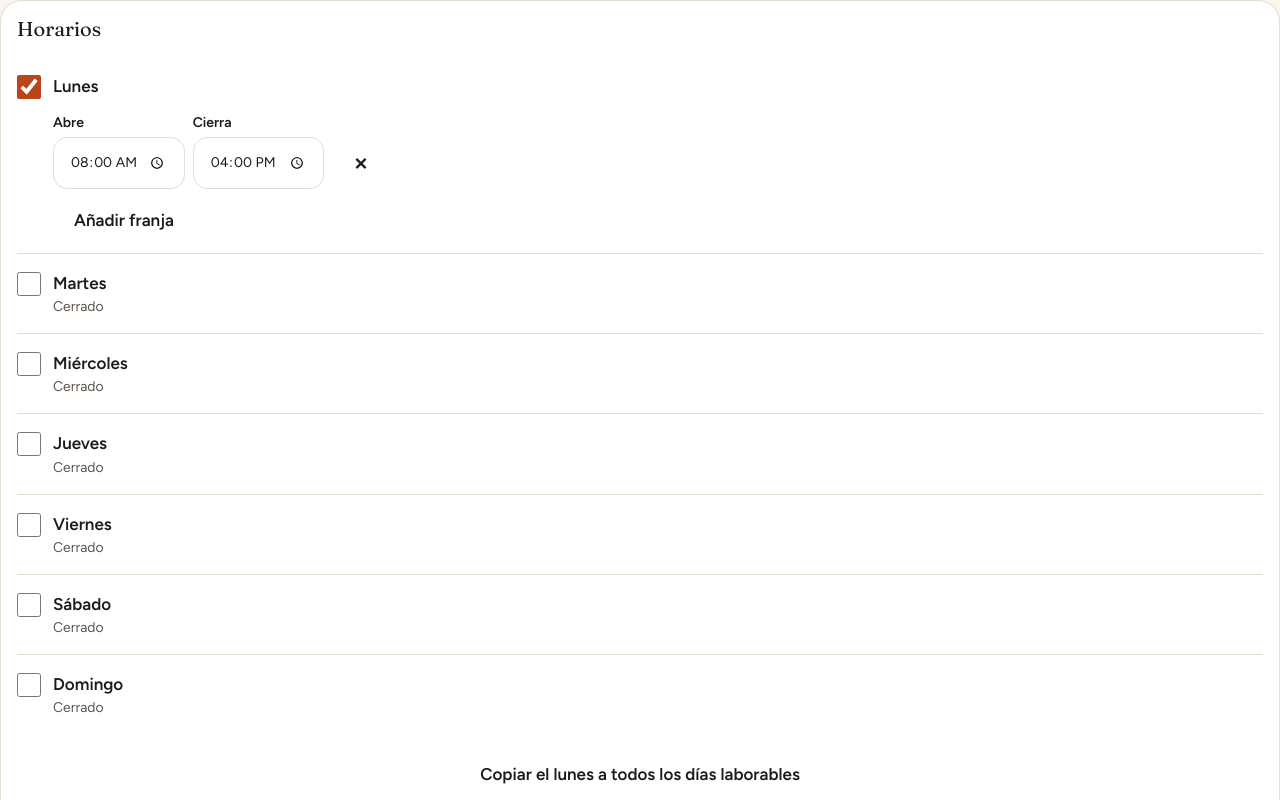
Scenario: EditorHorarios › añadir franjas hasta un máximo de 3
Click the button named "Añadir franja Lunes" at (124, 221), box x1=53 y1=197 x2=195 y2=245
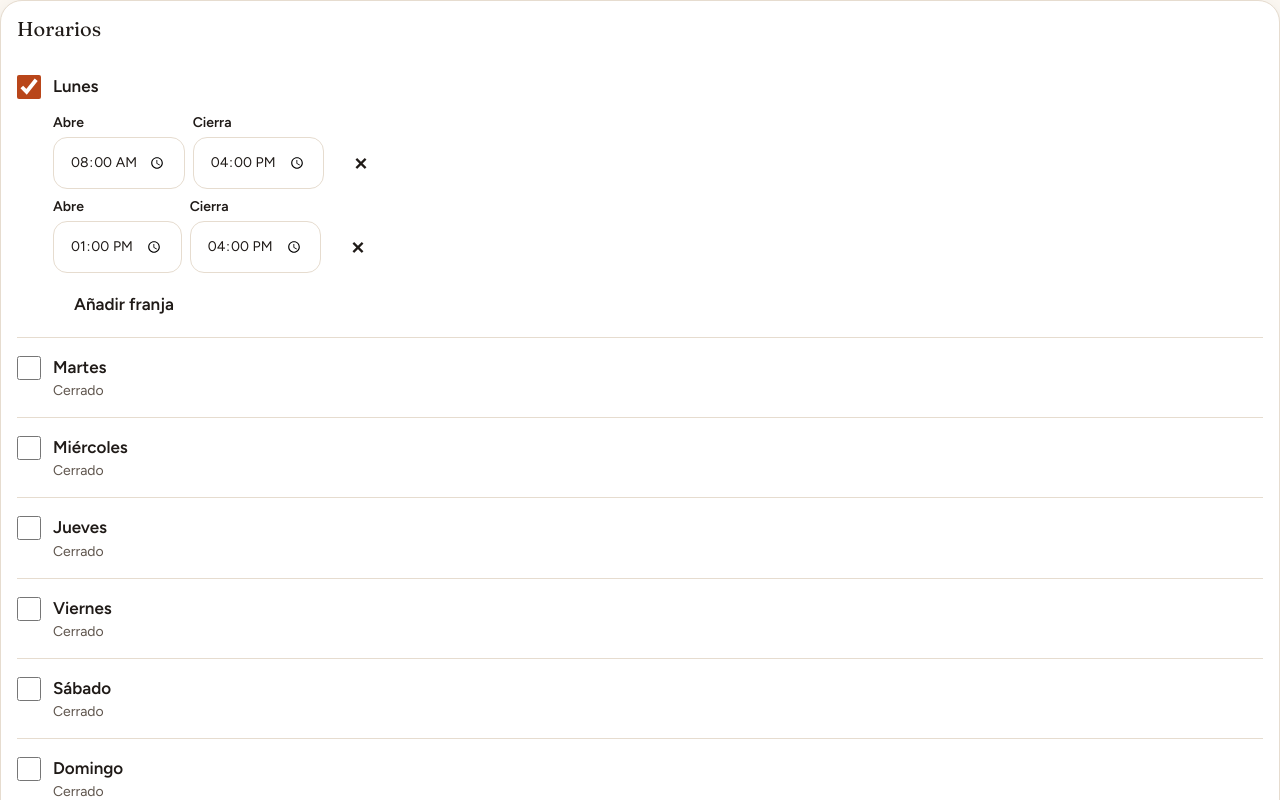
Click the button named "Añadir franja Lunes" at (124, 305), box x1=53 y1=281 x2=195 y2=329
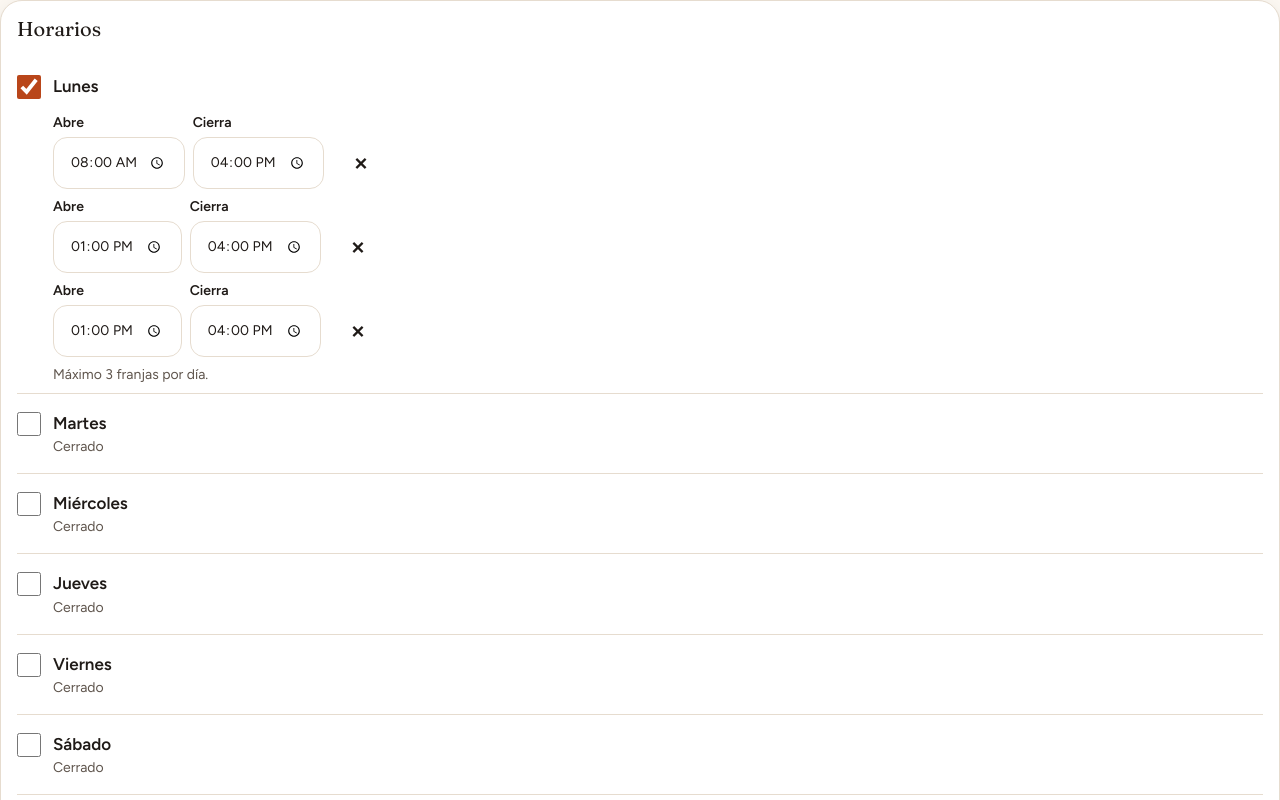
Expected: the button "Añadir franja Lunes" is not shown
Now the number of time fields labelled "Abre" is 3, box x1=53 y1=137 x2=185 y2=189; x1=53 y1=221 x2=182 y2=273; x1=53 y1=305 x2=182 y2=357
Now the text "Máximo 3 franjas por día." is shown, box x1=53 y1=366 x2=208 y2=383
